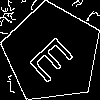E: (27, 28, 83, 85)
